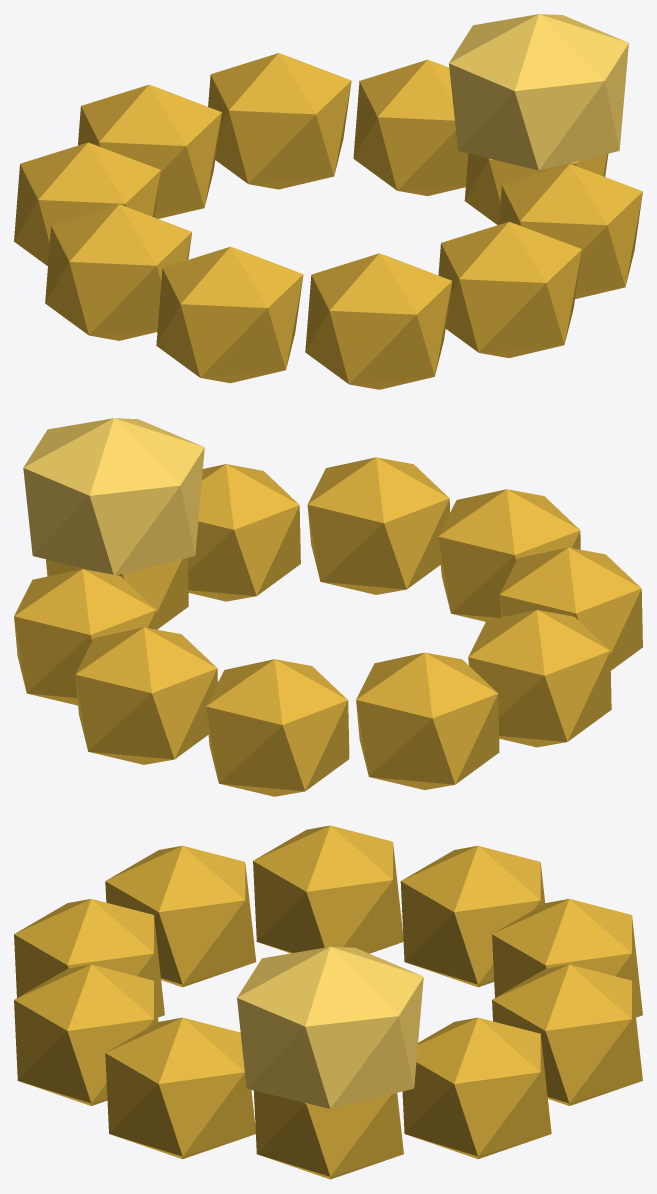
The model's file is drop_ring_gold.glb.
3 renders of one model, top to bottom at view 1: azimuth 30°, elevation 25°; view 2: azimuth 150°, elevation 25°; view 3: azimuth 270°, elevation 25°, orthographic. The views are drawn at different scales.
Parts seen in each view (by area): view 1: drop_ring_gold; view 2: drop_ring_gold; view 3: drop_ring_gold.
Part boxes in pixels (x1,y1,x2,y2): drop_ring_gold: (14,14,642,389); drop_ring_gold: (14,418,642,796); drop_ring_gold: (14,825,642,1179).
Bounding box in the file's own units: 0.1205 × 0.046 × 0.1126.
